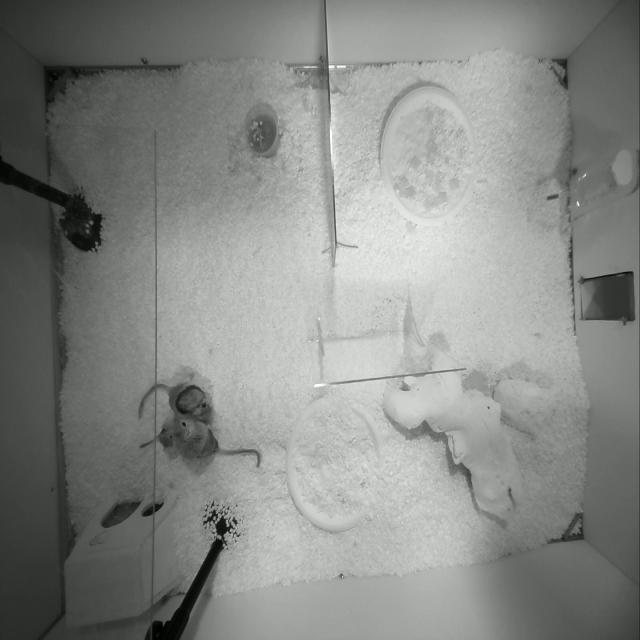adult_back: (170, 418, 261, 466)
adult_front: (138, 380, 212, 425)
pup_v_stripe: (158, 426, 173, 447), (141, 441, 151, 447)
